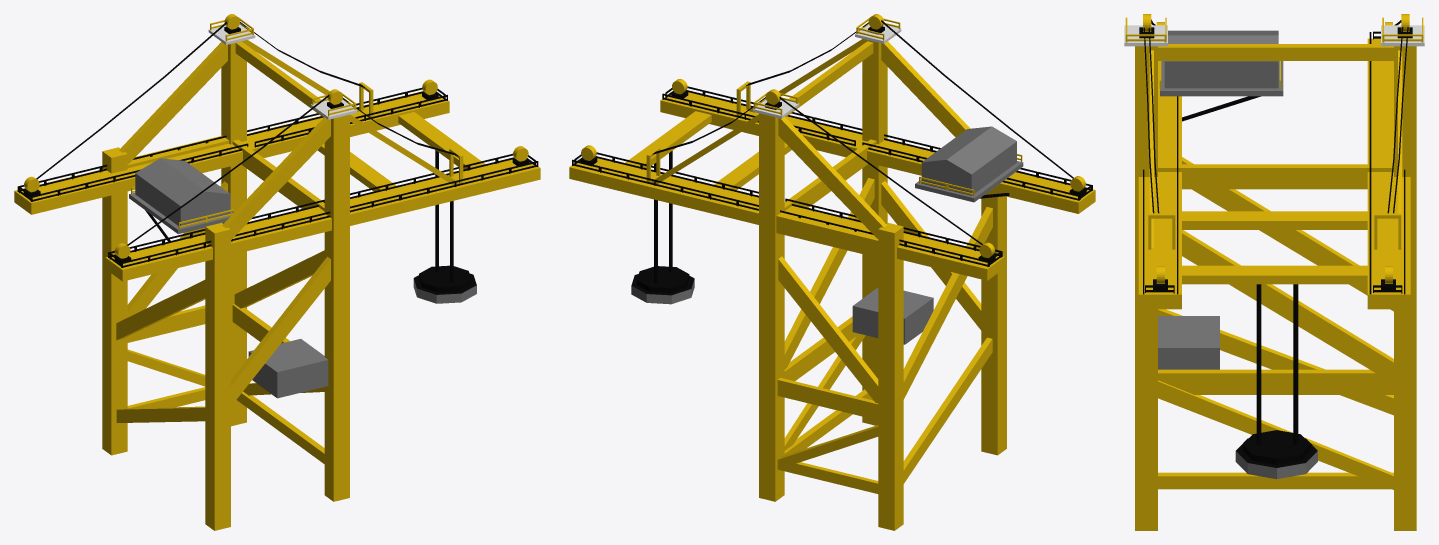
The model's file is Ship Loader_1.fbx.
3 renders of one model, left to right at view 1: azimuth 30°, elevation 25°; view 2: azimuth 150°, elevation 25°; view 3: azimuth 270°, elevation 25°, orthographic. The views are drawn at different scales.
Visible parts, largest first — view 1: Cube.302; view 2: Cube.302; view 3: Cube.302.
Part boxes in pixels (box(x1,y1,x2,y2)): Cube.302: box(14, 14, 540, 530); Cube.302: box(569, 14, 1095, 530); Cube.302: box(1124, 14, 1424, 530).
Size of the model in its own units: 6762 by 6277 by 3349.
